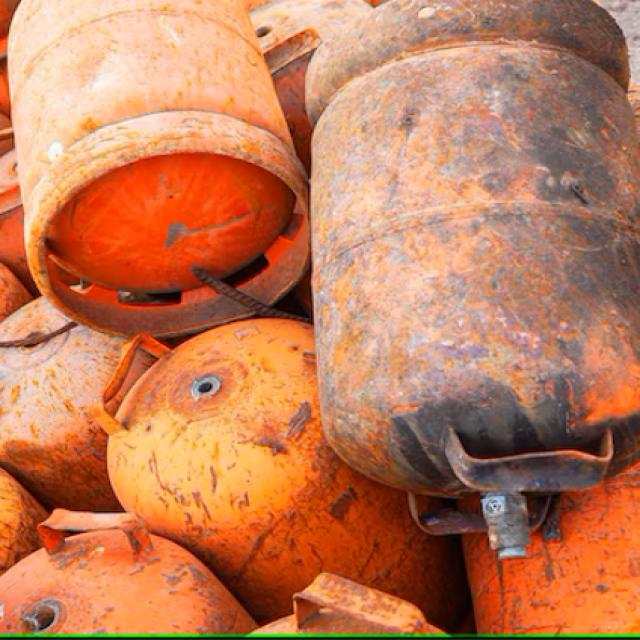cylinder: (308, 0, 638, 559), (89, 318, 477, 635), (7, 1, 312, 339)
